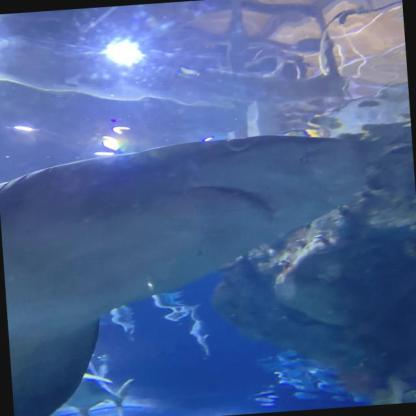fish: (63, 368, 139, 415)
shark: (0, 127, 387, 416)
